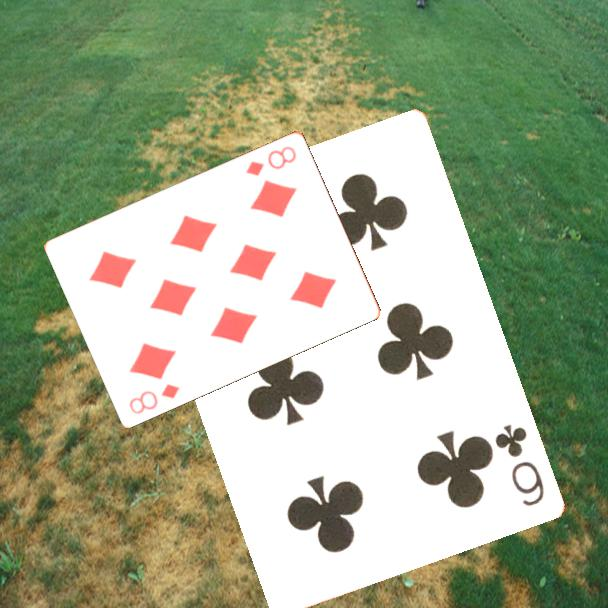c06: (490, 420, 547, 509)
d08: (126, 380, 183, 417), (242, 142, 299, 178)
